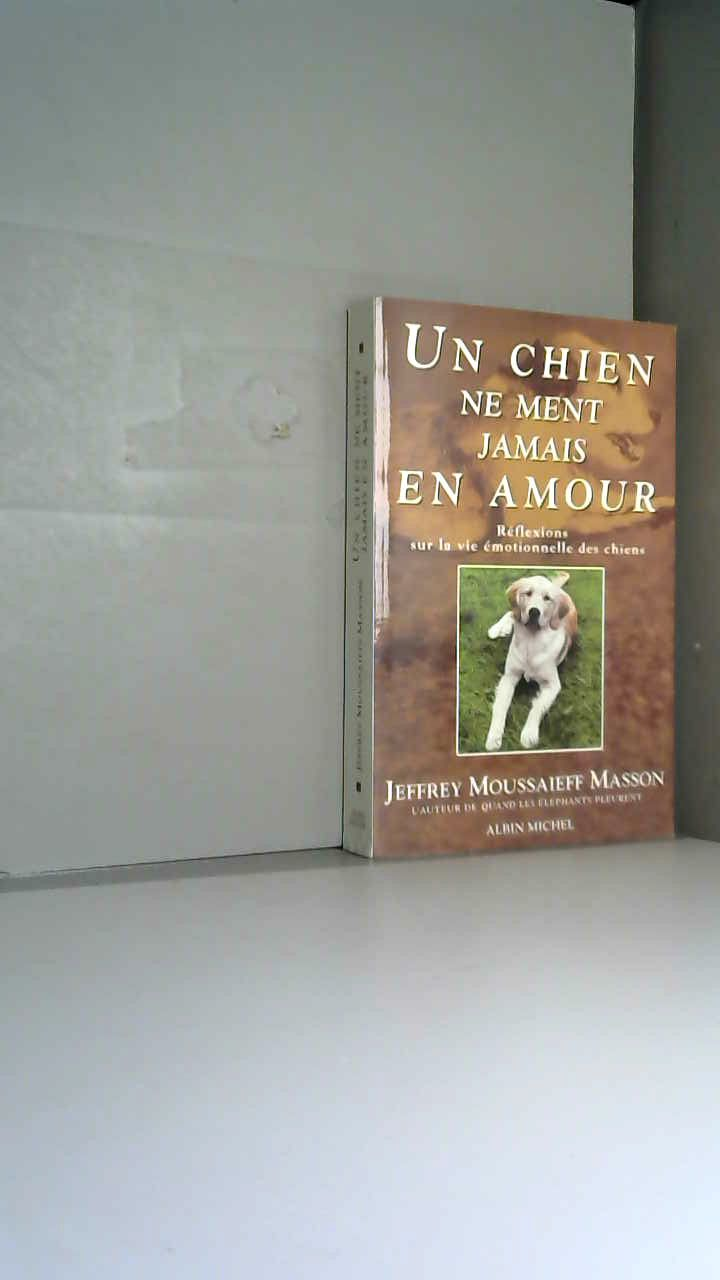book: (350, 270, 720, 894)
